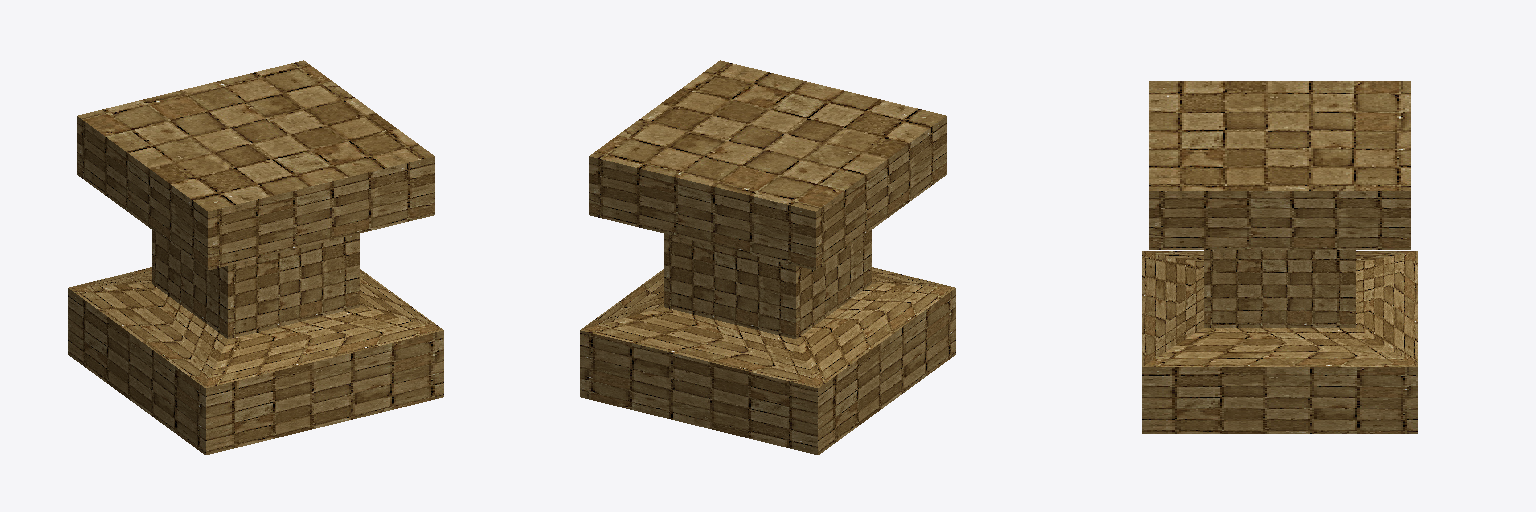
The picture shows the model from 3 angles: view 1: azimuth 30°, elevation 25°; view 2: azimuth 150°, elevation 25°; view 3: azimuth 270°, elevation 25°; orthographic projection.
Parts seen in each view (by area): view 1: Cube; view 2: Cube; view 3: Cube.
Part boxes in pixels (x1,y1,x2,y2): Cube: (68, 60, 443, 454); Cube: (580, 60, 955, 454); Cube: (1142, 81, 1417, 433).
Bounding box in the file's own units: 2 × 1.92 × 2.
1 materials, 1 textured.